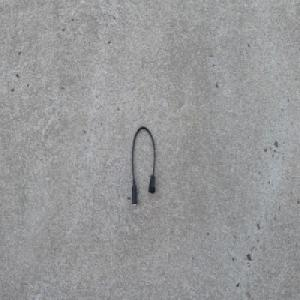Wire: (130, 125, 156, 209)
